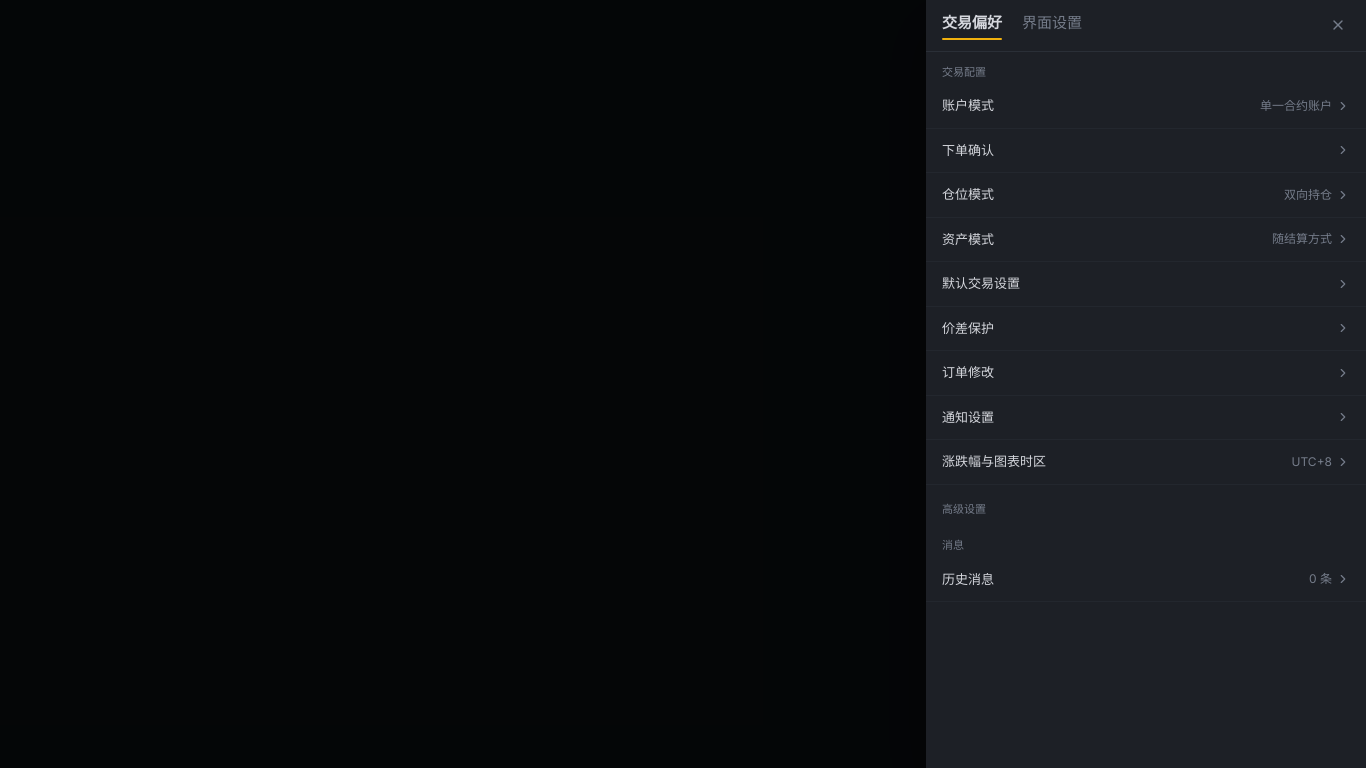
Test case: TradingPreferencesDrawer · 历史消息 › 空历史给出说明而不是一片空白
Click the button "历史消息 0 条".
click(968, 578)  # box [926, 558, 1365, 602]
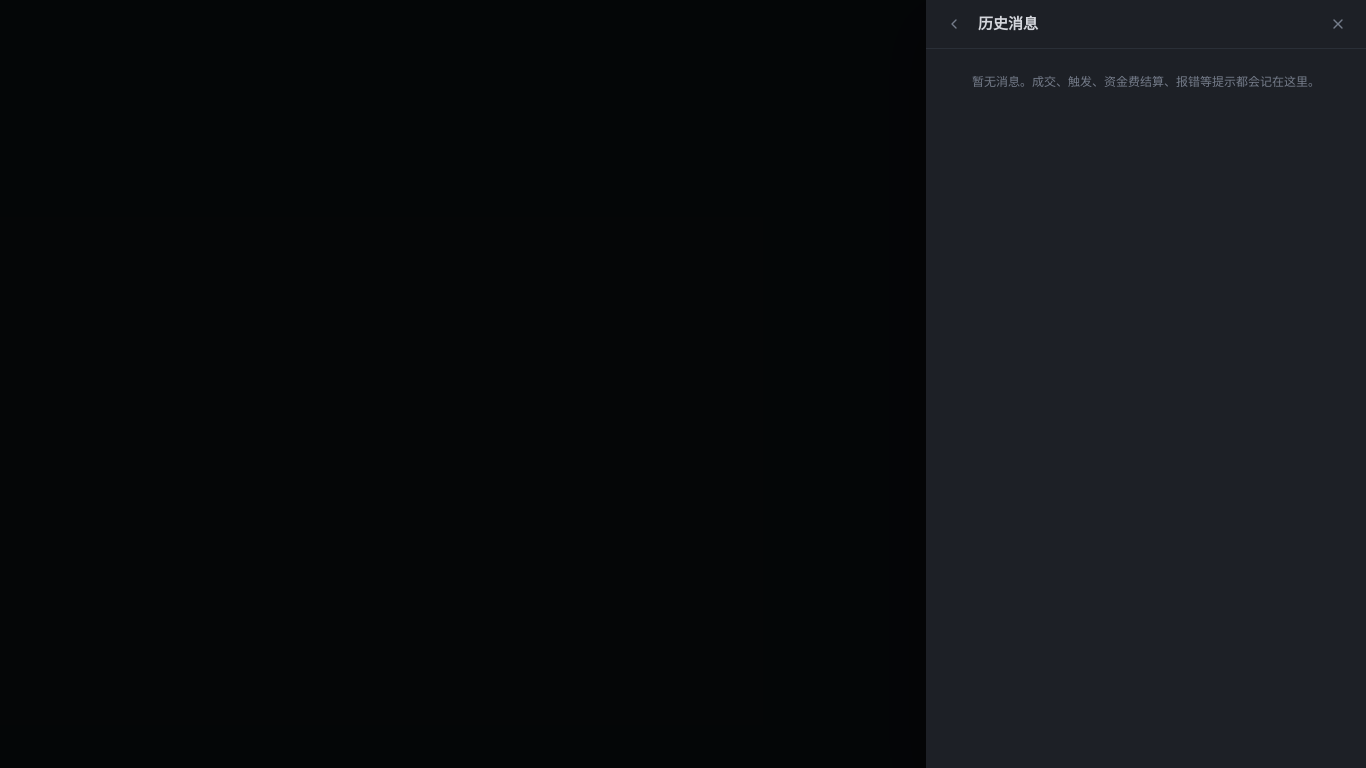
expect the text "暂无消息。成交、触发、资金费结算、报错等提示都会记在这里。" is shown: met, box [972, 74, 1320, 89]
